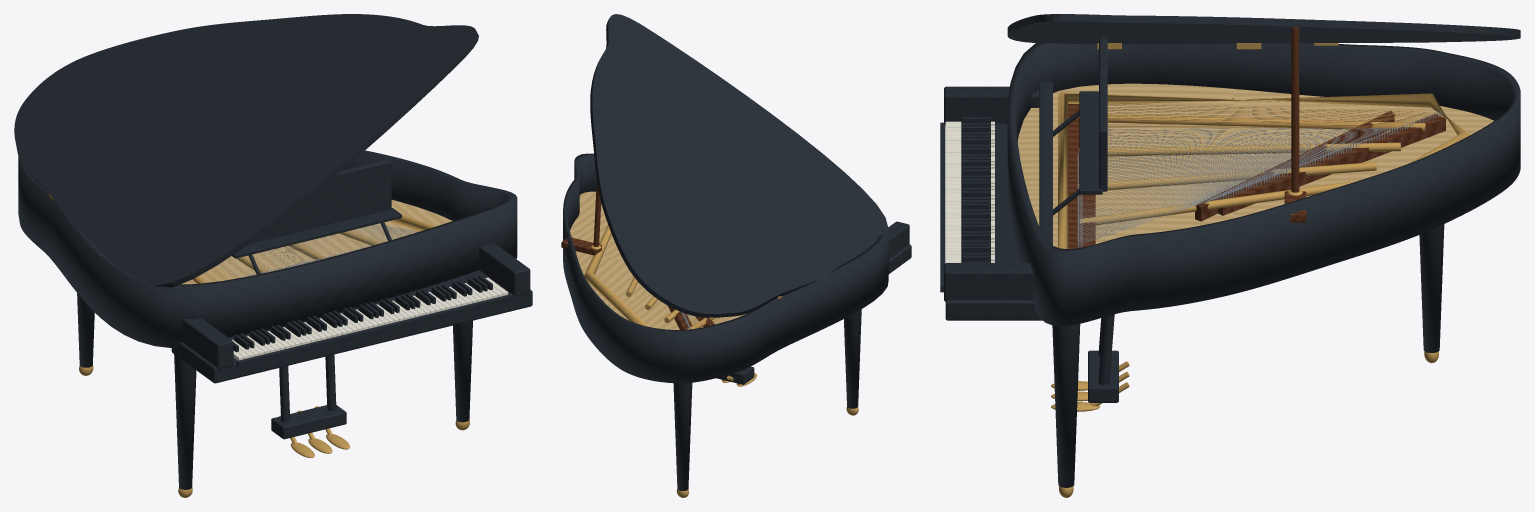
Rendered from grand-piano.glb.
The picture shows the model from 3 angles, left to right: view 1: azimuth 30°, elevation 25°; view 2: azimuth 150°, elevation 25°; view 3: azimuth 270°, elevation 25°; orthographic projection. The views are drawn at different scales.
Parts seen in each view (by area): view 1: Finite grand piano lid, Continuous bent grand piano rim, Grand piano keyboard bed, Grand music desk, Spruce soundboard, Tapered grand piano leg, Continuous key slip rail, Grand music desk ledge, Grand keyboard cheek.001, Grand keyboard cheek, Tapered grand piano leg.001, Pedal lyre bottom (+1 smaller); view 2: Finite grand piano lid, Continuous bent grand piano rim, Spruce soundboard, Tapered grand piano leg.002, Tapered grand piano leg, Cast plate perimeter, Grand keyboard cheek; view 3: Continuous bent grand piano rim, Spruce soundboard, Finite grand piano lid, Cast plate perimeter, Grand piano keyboard bed, Tapered grand piano leg.001, Grand keyboard cheek.001, Soundboard mounted hitch pin rail, Cast harp brace 0, Tapered grand piano leg.002, Cast harp brace 1, Grand keyboard cheek (+11 smaller).
Boxes of the visible parts, <box> form: Finite grand piano lid: <box>14,14,478,287</box>; Continuous bent grand piano rim: <box>18,150,517,348</box>; Grand piano keyboard bed: <box>171,270,532,383</box>; Grand music desk: <box>249,159,391,243</box>; Spruce soundboard: <box>181,200,452,284</box>; Tapered grand piano leg: <box>174,354,196,489</box>; Continuous key slip rail: <box>236,294,513,367</box>; Grand music desk ledge: <box>232,208,401,258</box>; Grand keyboard cheek.001: <box>479,242,530,296</box>; Grand keyboard cheek: <box>182,318,233,369</box>; Tapered grand piano leg.001: <box>453,320,472,422</box>; Pedal lyre bottom: <box>271,405,346,439</box>; Finite grand piano lid: <box>590,14,888,317</box>; Continuous bent grand piano rim: <box>563,153,888,383</box>; Spruce soundboard: <box>570,191,745,329</box>; Tapered grand piano leg.002: <box>673,382,692,490</box>; Tapered grand piano leg: <box>844,309,861,408</box>; Cast plate perimeter: <box>584,225,649,326</box>; Grand keyboard cheek: <box>888,221,909,258</box>; Continuous bent grand piano rim: <box>1007,43,1520,326</box>; Spruce soundboard: <box>1017,83,1493,247</box>; Finite grand piano lid: <box>1007,14,1520,44</box>; Cast plate perimeter: <box>1058,92,1470,248</box>; Grand piano keyboard bed: <box>945,123,1042,320</box>; Tapered grand piano leg.001: <box>1052,324,1080,487</box>; Grand keyboard cheek.001: <box>944,263,1033,301</box>; Soundboard mounted hitch pin rail: <box>1218,114,1445,215</box>; Cast harp brace 0: <box>1078,114,1425,131</box>; Tapered grand piano leg.002: <box>1419,224,1444,352</box>; Cast harp brace 1: <box>1078,142,1400,156</box>; Grand keyboard cheek: <box>944,86,1039,124</box>.
Size of the model in its own units: 1.71 by 1.74 by 1.87.
7 materials, 7 textured.
